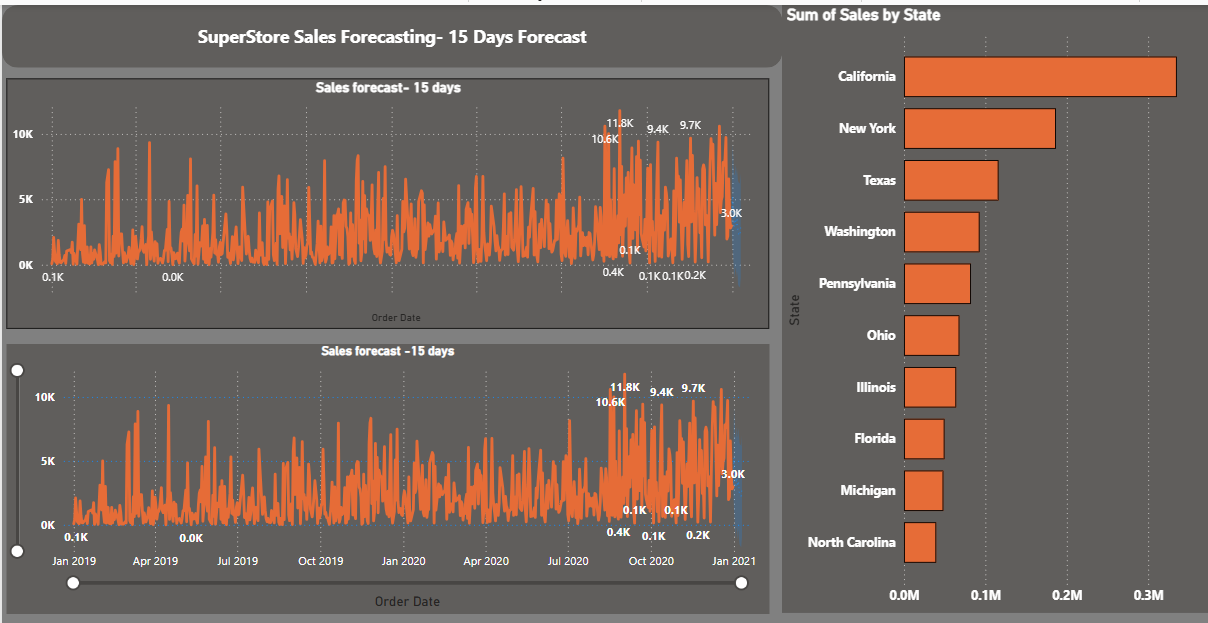

This screenshot's page, from the dashboard's own definition file:
{"tool":"powerbi","page":{"name":"Page 2","canvas":[1280,720],"ordinal":1},"visuals":[{"type":"lineChart","title":"Sales forecast- 15 days","fields":{"Y":["Sum(Sheet1.Sales)"],"Category":["Sheet1.Order Date"]},"box":[4.3,78.3,808.7,265.2],"z":0},{"type":"lineChart","title":"Sales forecast -15 days","fields":{"Y":["Sum(Sheet1.Sales)"],"Category":["Sheet1.Order Date"]},"box":[4.3,359.4,808.7,285.5],"z":1000},{"type":"clusteredBarChart","fields":{"Y":["Sum(Sheet1.Sales)"],"Category":["Sheet1.State"]},"box":[827.5,0,452.2,644.9],"z":2000},{"type":"shape","box":[0,0,827.5,66.7],"z":3000}]}

Visuals, with their boxes on the page's 1280x720 design canvas (x1, y1, x2, y2). These are canvas units, not pixel positions in the 1208x623 screenshot, which may show the page scaled, cropped or inside an application window:
"Sales forecast- 15 days" lineChart: [4, 78, 813, 344]
"Sales forecast -15 days" lineChart: [4, 359, 813, 645]
clusteredBarChart - Sum(Sheet1.Sales) x Sheet1.State: [828, 0, 1280, 645]
shape: [0, 0, 828, 67]
